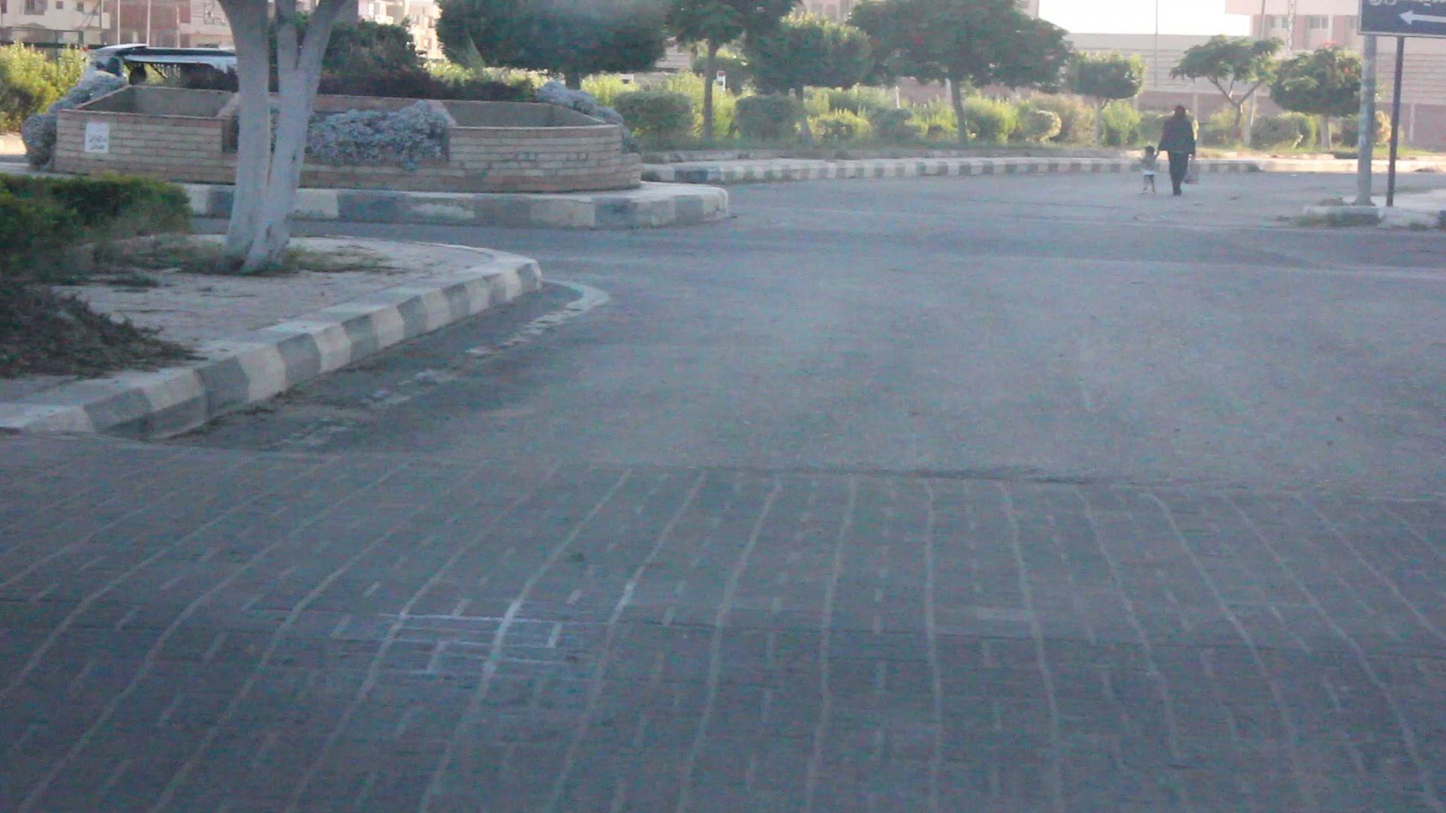Bump: (1, 431, 1445, 812)
